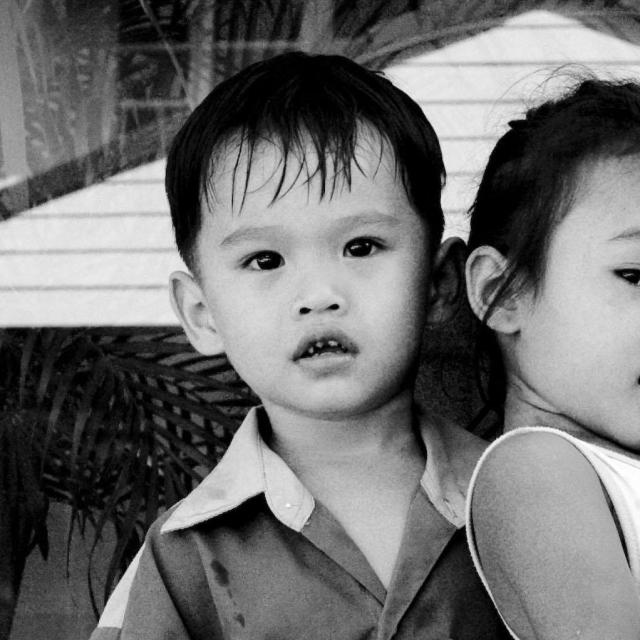no-glass: (233, 232, 391, 280)
